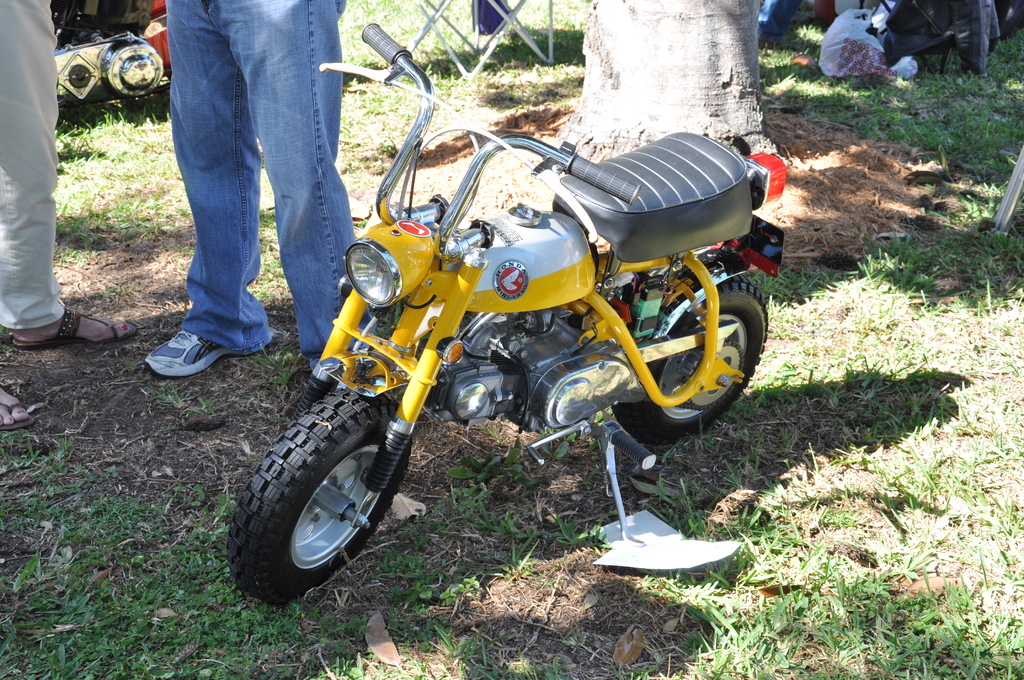Tree: (544, 0, 781, 161)
